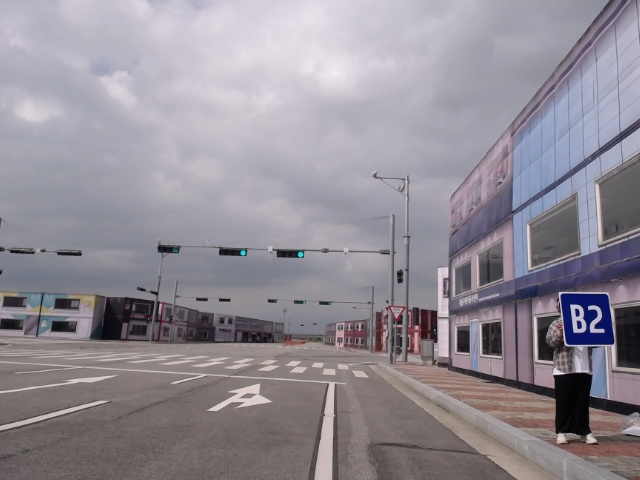delivery_b2: (555, 292, 619, 348)
straight_green_4: (275, 247, 306, 260), (217, 246, 250, 258), (292, 298, 308, 305), (318, 300, 334, 307)
